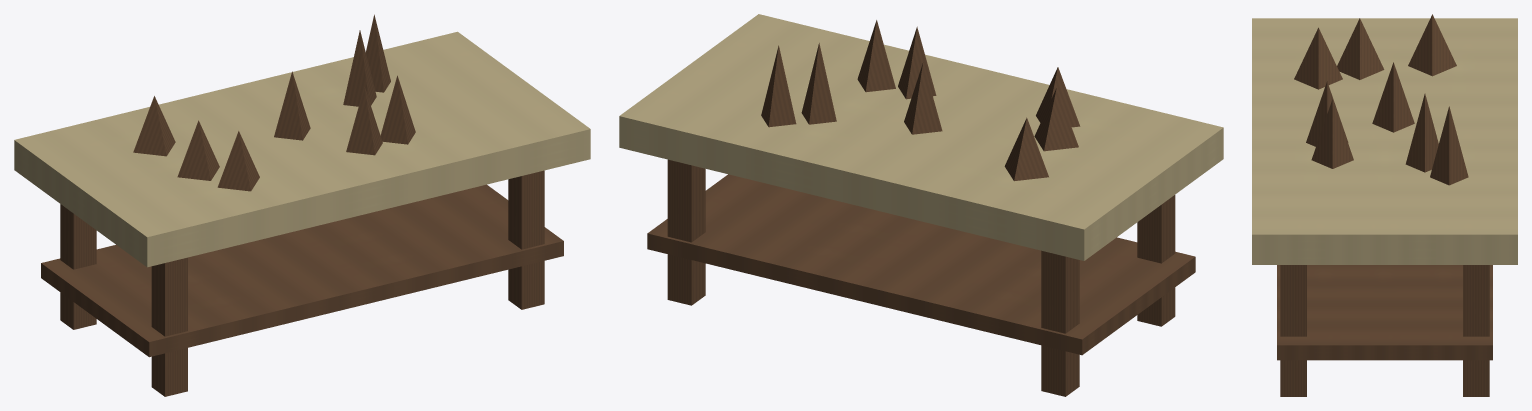
File: atlas100-s013-a02.lod2.glb
3 views of the same model, side by side, from view 1: azimuth 30°, elevation 25°; view 2: azimuth 150°, elevation 25°; view 3: azimuth 270°, elevation 25° (orthographic). The views are drawn at different scales.
Parts seen in each view (by area): view 1: atlas100-s013-a02:part-004, atlas100-s013-a02:part-005, atlas100-s013-a02:part-003, atlas100-s013-a02:part-001, atlas100-s013-a02:part-000, atlas100-s013-a02:part-010, atlas100-s013-a02:part-013, atlas100-s013-a02:part-007, atlas100-s013-a02:part-008, atlas100-s013-a02:part-011, atlas100-s013-a02:part-014, atlas100-s013-a02:part-012 (+1 smaller); view 2: atlas100-s013-a02:part-004, atlas100-s013-a02:part-005, atlas100-s013-a02:part-000, atlas100-s013-a02:part-002, atlas100-s013-a02:part-001, atlas100-s013-a02:part-012, atlas100-s013-a02:part-009, atlas100-s013-a02:part-013, atlas100-s013-a02:part-010, atlas100-s013-a02:part-008, atlas100-s013-a02:part-014, atlas100-s013-a02:part-011 (+1 smaller); view 3: atlas100-s013-a02:part-004, atlas100-s013-a02:part-005, atlas100-s013-a02:part-002, atlas100-s013-a02:part-003, atlas100-s013-a02:part-009, atlas100-s013-a02:part-013, atlas100-s013-a02:part-007, atlas100-s013-a02:part-010, atlas100-s013-a02:part-008, atlas100-s013-a02:part-014, atlas100-s013-a02:part-012, atlas100-s013-a02:part-011.
Boxes of the visible parts, left/top/right/bottom form: atlas100-s013-a02:part-004: left=14, top=31, right=590, bottom=267; atlas100-s013-a02:part-005: left=41, top=184, right=563, bottom=357; atlas100-s013-a02:part-003: left=508, top=170, right=544, bottom=309; atlas100-s013-a02:part-001: left=151, top=257, right=187, bottom=396; atlas100-s013-a02:part-000: left=60, top=204, right=96, bottom=329; atlas100-s013-a02:part-010: left=177, top=120, right=219, bottom=180; atlas100-s013-a02:part-013: left=133, top=96, right=175, bottom=156; atlas100-s013-a02:part-007: left=217, top=131, right=259, bottom=191; atlas100-s013-a02:part-008: left=274, top=71, right=310, bottom=140; atlas100-s013-a02:part-011: left=346, top=86, right=382, bottom=155; atlas100-s013-a02:part-014: left=380, top=75, right=415, bottom=144; atlas100-s013-a02:part-012: left=343, top=30, right=376, bottom=106; atlas100-s013-a02:part-004: left=619, top=14, right=1223, bottom=260; atlas100-s013-a02:part-005: left=647, top=174, right=1195, bottom=355; atlas100-s013-a02:part-000: left=1041, top=250, right=1079, bottom=396; atlas100-s013-a02:part-002: left=667, top=159, right=705, bottom=305; atlas100-s013-a02:part-001: left=1137, top=195, right=1175, bottom=326; atlas100-s013-a02:part-012: left=801, top=43, right=836, bottom=124; atlas100-s013-a02:part-009: left=761, top=45, right=796, bottom=127; atlas100-s013-a02:part-013: left=1004, top=117, right=1048, bottom=181; atlas100-s013-a02:part-010: left=1034, top=88, right=1078, bottom=151; atlas100-s013-a02:part-008: left=904, top=62, right=942, bottom=134; atlas100-s013-a02:part-014: left=857, top=20, right=895, bottom=92; atlas100-s013-a02:part-011: left=898, top=26, right=936, bottom=99; atlas100-s013-a02:part-004: left=1252, top=18, right=1517, bottom=264; atlas100-s013-a02:part-005: left=1277, top=265, right=1492, bottom=360; atlas100-s013-a02:part-002: left=1463, top=265, right=1489, bottom=396; atlas100-s013-a02:part-003: left=1280, top=265, right=1306, bottom=396; atlas100-s013-a02:part-009: left=1430, top=106, right=1468, bottom=185; atlas100-s013-a02:part-013: left=1408, top=14, right=1456, bottom=76; atlas100-s013-a02:part-007: left=1294, top=27, right=1342, bottom=89; atlas100-s013-a02:part-010: left=1337, top=18, right=1384, bottom=79; atlas100-s013-a02:part-008: left=1372, top=62, right=1414, bottom=132; atlas100-s013-a02:part-014: left=1311, top=99, right=1353, bottom=168; atlas100-s013-a02:part-012: left=1405, top=93, right=1438, bottom=172; atlas100-s013-a02:part-011: left=1306, top=81, right=1348, bottom=146.
Bounding box in the file's own units: 3.08 × 1.65 × 1.6.
Materials: 2 (2 with a texture image).
